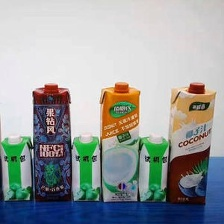carton: (166, 79, 218, 204), (100, 78, 141, 206), (31, 81, 73, 202), (135, 132, 171, 203), (0, 132, 33, 203), (71, 131, 100, 204)
